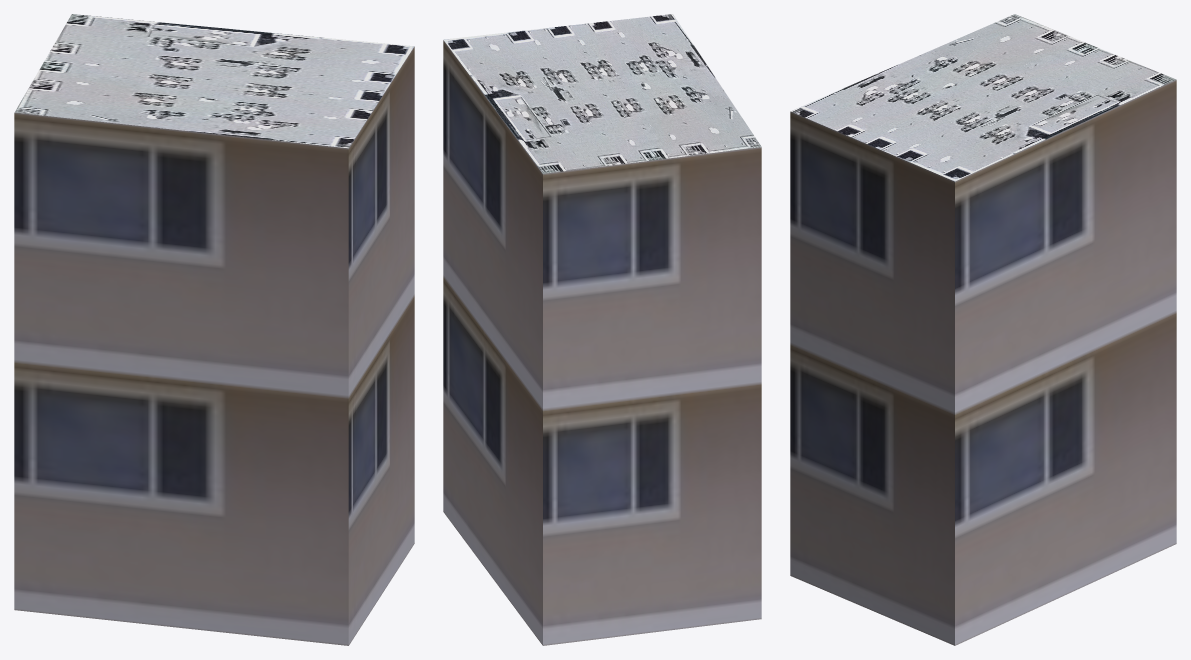
File: ResTex__1572.fbx
3 renders of one model, left to right at view 1: azimuth 30°, elevation 25°; view 2: azimuth 150°, elevation 25°; view 3: azimuth 270°, elevation 25°, orthographic. The views are drawn at different scales.
Visible parts, largest first — view 1: CityEngineMaterial_21_m, CityEngineMaterial_4_m; view 2: CityEngineMaterial_21_m, CityEngineMaterial_4_m; view 3: CityEngineMaterial_21_m, CityEngineMaterial_4_m.
Boxes of the visible parts, x1,y1,x2,y2 form: CityEngineMaterial_21_m: (14, 46, 414, 645); CityEngineMaterial_4_m: (14, 14, 414, 148); CityEngineMaterial_21_m: (443, 40, 761, 645); CityEngineMaterial_4_m: (443, 14, 761, 173); CityEngineMaterial_21_m: (790, 79, 1176, 645); CityEngineMaterial_4_m: (790, 14, 1175, 181).
Bounding box in the file's own units: 4.64 × 6 × 4.52.
2 materials, 2 textured.
